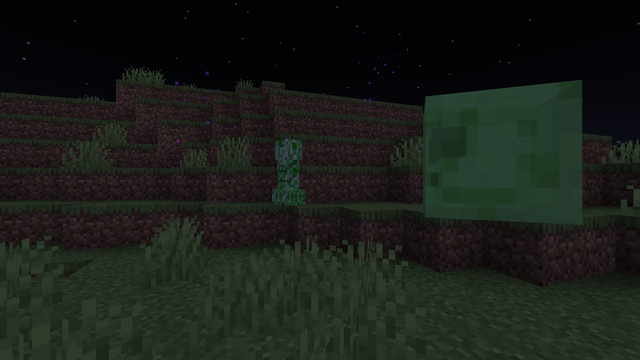creepers: (274, 135, 302, 205)
slimes: (400, 72, 586, 224)
